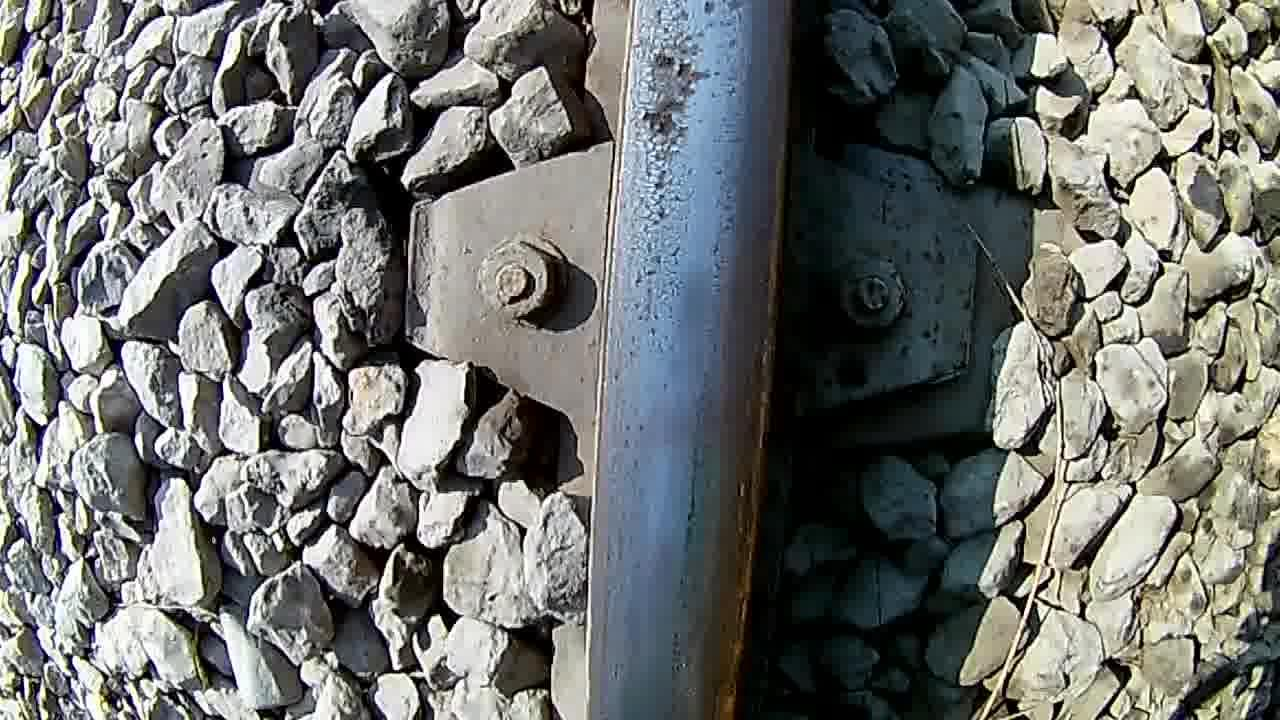crack: (593, 0, 786, 720)
